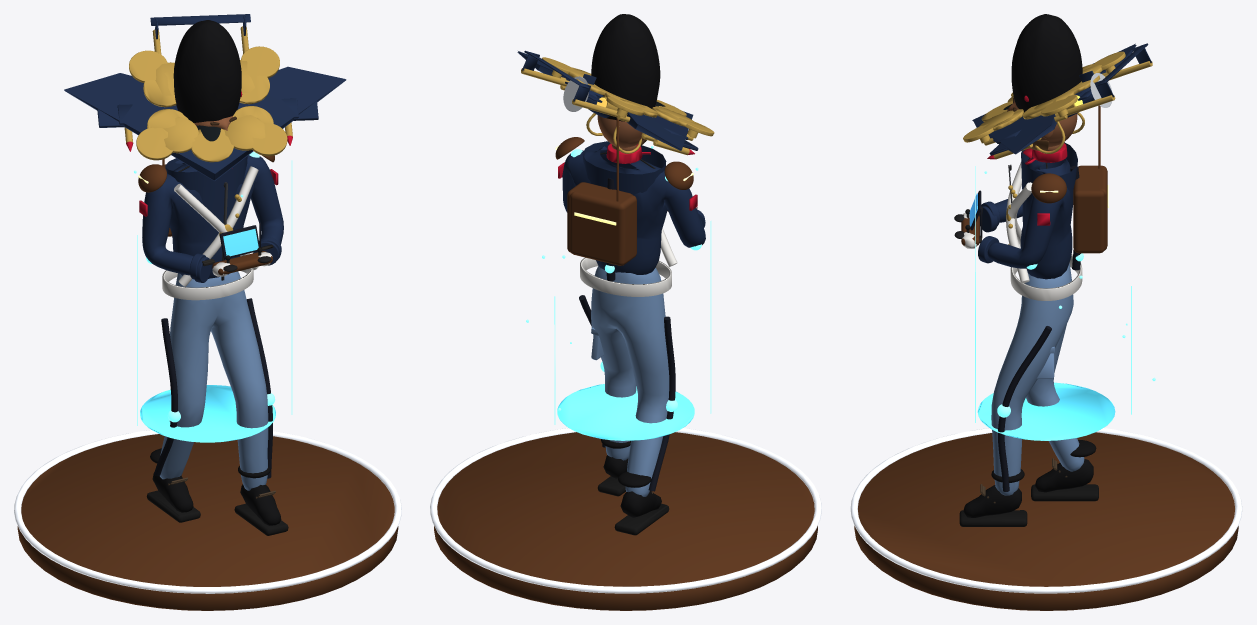
File: drone_kbh.glb
3 renders of one model, left to right at view 1: azimuth 30°, elevation 25°; view 2: azimuth 150°, elevation 25°; view 3: azimuth 270°, elevation 25°, orthographic.
Parts seen in each view (by area): view 1: fod_net, menneske_net, op4.002_net, hoved_net, op4.001_net, ned3_net, op1_net, ned2.001_net, ned1_net, op4_net, ned4_net, vaaben_net (+2 smaller); view 2: fod_net, menneske_net, op4_net, hoved_net, op4.001_net, ned4_net, op1_net, op4.002_net, ned3_net, op3_net, ned2.001_net, ned4.001_net; view 3: fod_net, menneske_net, hoved_net, op4.001_net, op1_net, ned4.001_net, op4_net, ned4_net, op4.002_net, ned3_net, ned2.001_net, op3_net (+2 smaller).
Boxes of the visible parts, box(x1,y1,x2,y2) form: fod_net: box(14, 430, 401, 610); menneske_net: box(139, 155, 288, 535); op4.002_net: box(64, 66, 346, 180); hoved_net: box(173, 20, 242, 130); op4.001_net: box(134, 160, 292, 442); ned3_net: box(117, 46, 298, 160); op1_net: box(162, 166, 281, 300); ned2.001_net: box(143, 70, 273, 162); ned1_net: box(155, 60, 265, 153); op4_net: box(146, 152, 275, 478); ned4_net: box(97, 14, 318, 151); vaaben_net: box(212, 222, 272, 275); fod_net: box(430, 428, 821, 610); menneske_net: box(558, 141, 705, 535); op4_net: box(570, 149, 701, 491); hoved_net: box(591, 14, 660, 148); op4.001_net: box(526, 146, 711, 440); ned4_net: box(521, 50, 698, 155); op1_net: box(580, 209, 705, 296); op4.002_net: box(517, 51, 693, 150); ned3_net: box(542, 57, 714, 140); op3_net: box(555, 118, 693, 201); ned2.001_net: box(572, 67, 686, 153); ned4.001_net: box(567, 182, 632, 252); fod_net: box(850, 428, 1242, 610); menneske_net: box(954, 142, 1098, 526); hoved_net: box(1007, 14, 1082, 150); op4.001_net: box(975, 166, 1155, 440); op1_net: box(978, 162, 1082, 300); ned4.001_net: box(1073, 167, 1105, 253); op4_net: box(997, 165, 1108, 491); ned4_net: box(987, 43, 1152, 159); op4.002_net: box(972, 43, 1136, 154); ned3_net: box(963, 51, 1125, 145); ned2.001_net: box(981, 64, 1100, 153); op3_net: box(1008, 105, 1100, 203).
Size of the model in its own units: 1.94 by 2.81 by 1.94.
